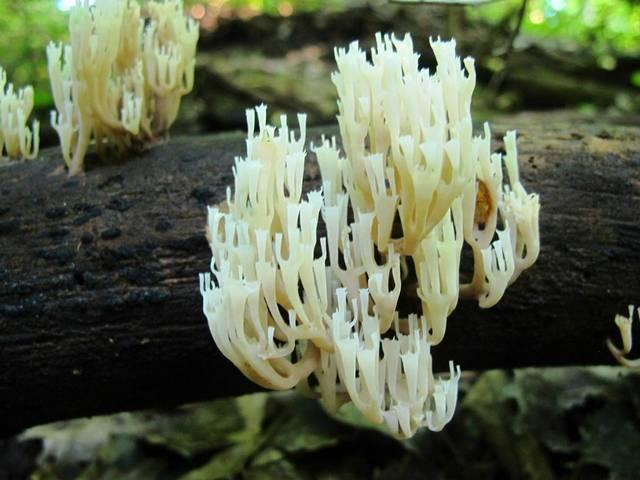edible_mushroom: (197, 29, 542, 440), (44, 0, 200, 177)
